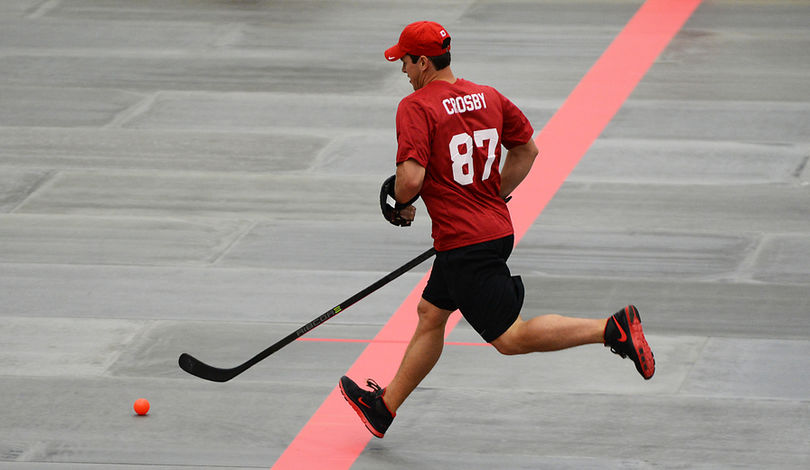red ball: (131, 397, 152, 419)
